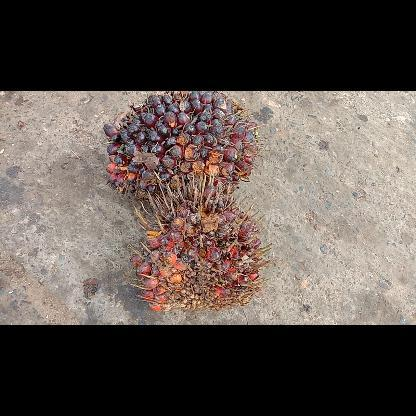Kurang masak: (103, 91, 263, 203)
TBS masak: (130, 172, 270, 310)
